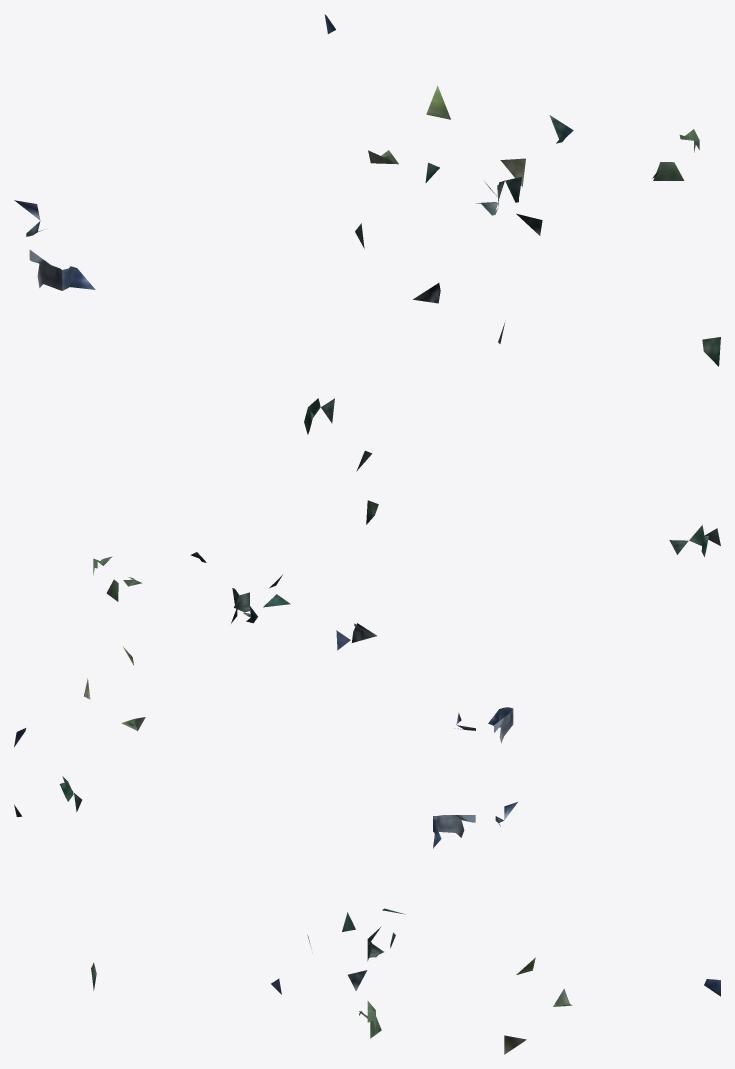
The picture shows the model from 3 angles, top to bottom: view 1: azimuth 30°, elevation 25°; view 2: azimuth 150°, elevation 25°; view 3: azimuth 270°, elevation 25°; orthographic projection. The views are drawn at different scales.
Visible parts, largest first — view 1: 3043627270437060472_1; view 2: 3043627270437060472_1; view 3: 3043627270437060472_1.
Part boxes in pixels (left/top/right/bottom): 3043627270437060472_1: left=14, top=14, right=720, bottom=471; 3043627270437060472_1: left=14, top=500, right=720, bottom=747; 3043627270437060472_1: left=14, top=776, right=720, bottom=1054.
Bounding box in the file's own units: 54.62 × 13.25 × 76.52.
Materials: 1 (1 with a texture image).
